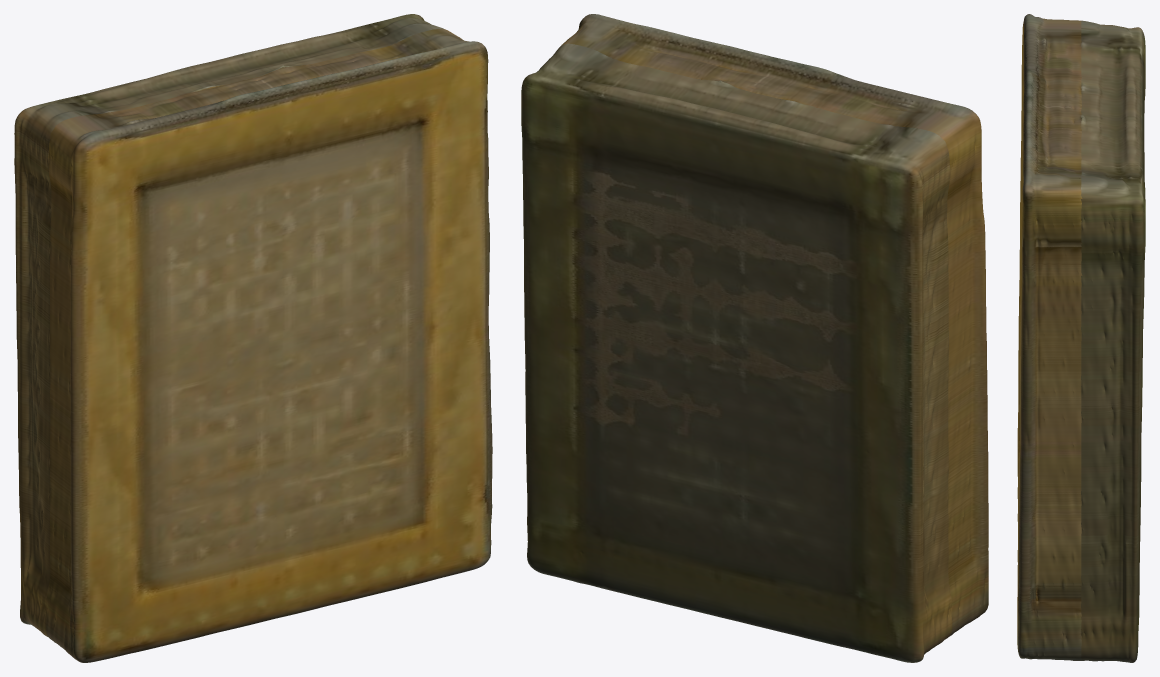
The model's file is kfl-2186.glb.
The picture shows the model from 3 angles, left to right: view 1: azimuth 30°, elevation 25°; view 2: azimuth 150°, elevation 25°; view 3: azimuth 270°, elevation 25°; orthographic projection. The views are drawn at different scales.
Visible parts, largest first — view 1: geometry_0; view 2: geometry_0; view 3: geometry_0.
Boxes of the visible parts, x1,y1,x2,y2 form: geometry_0: [14, 14, 492, 662]; geometry_0: [521, 14, 988, 662]; geometry_0: [1017, 14, 1145, 662].
Size of the model in its own units: 0.8157 by 0.9947 by 0.2387.
1 material, 1 textured.
